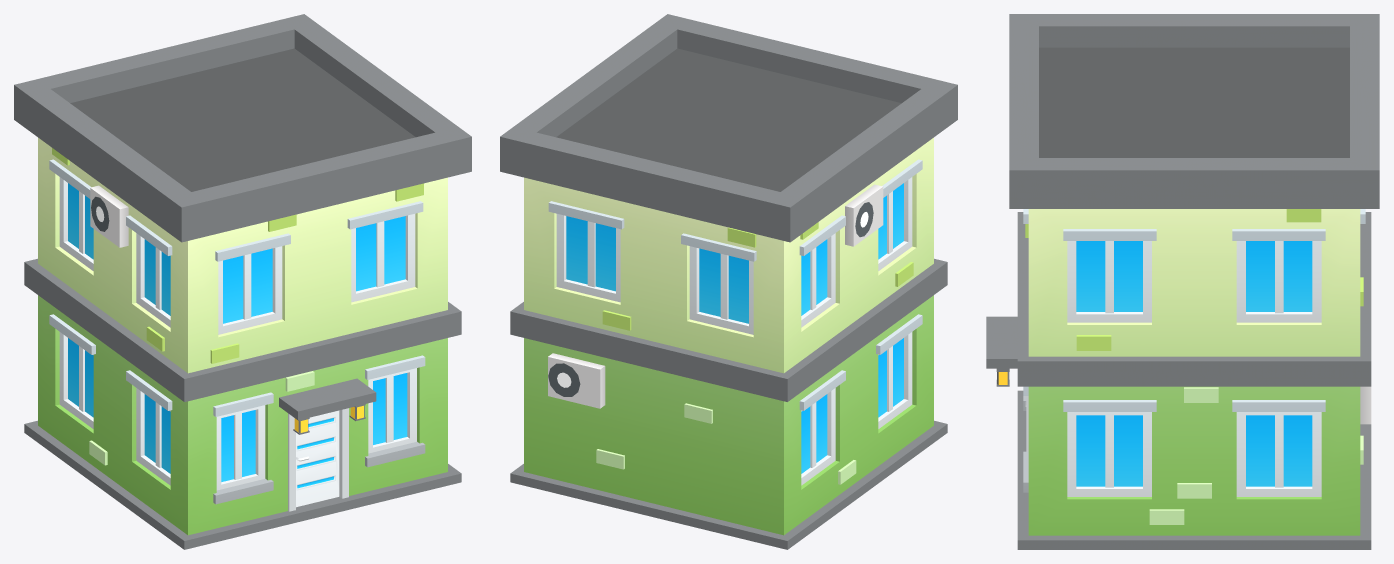
The model's file is Building_Living_10.glb.
The picture shows the model from 3 angles, left to right: view 1: azimuth 30°, elevation 25°; view 2: azimuth 150°, elevation 25°; view 3: azimuth 270°, elevation 25°; orthographic projection. The views are drawn at different scales.
Parts seen in each view (by area): view 1: Building_Living_10; view 2: Building_Living_10; view 3: Building_Living_10.
Boxes of the visible parts, x1,y1,x2,y2 form: Building_Living_10: [14, 14, 471, 549]; Building_Living_10: [500, 14, 957, 549]; Building_Living_10: [986, 14, 1379, 549].
Bounding box in the file's own units: 6.86 × 7.83 × 7.28.
1 material, 1 textured.
